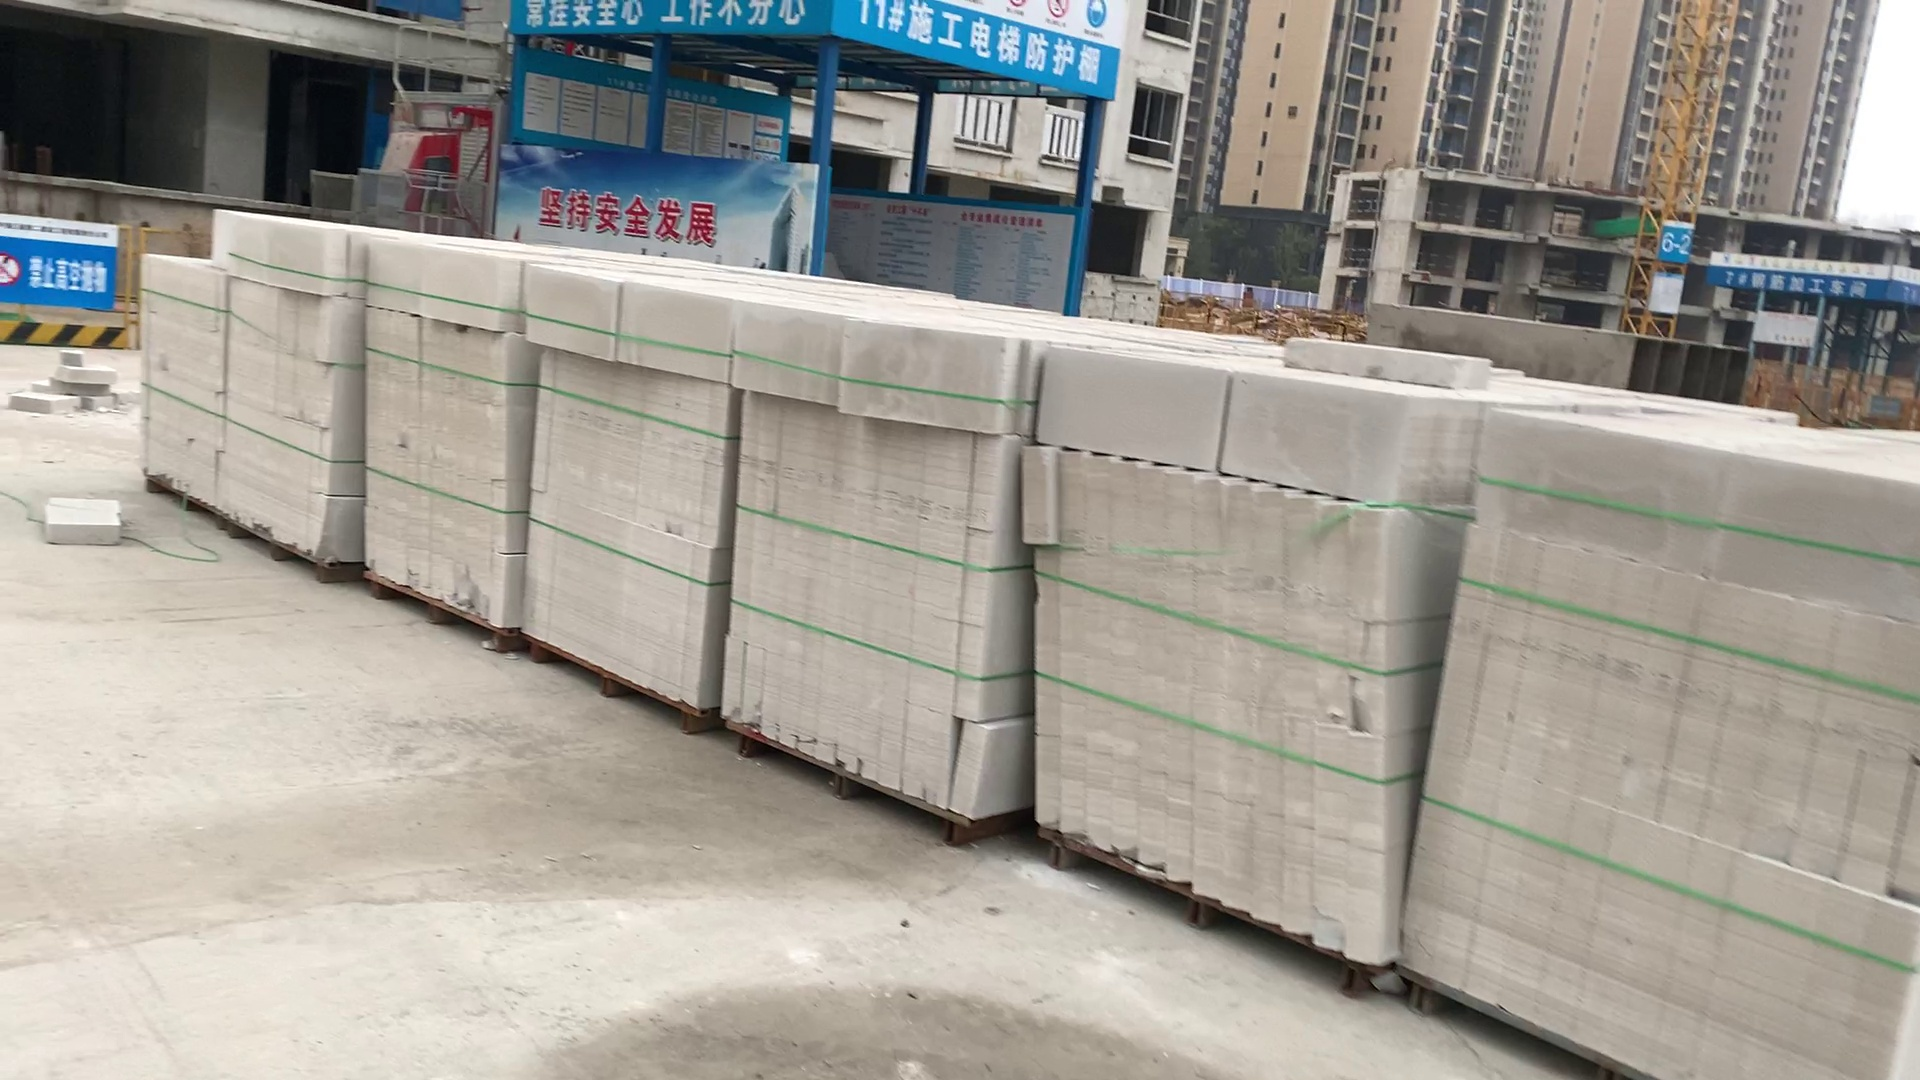brickwork: (1394, 376, 1917, 1080), (1035, 344, 1474, 992), (738, 299, 1025, 818), (526, 252, 728, 731), (371, 233, 516, 644), (216, 202, 361, 574), (144, 252, 216, 508)
